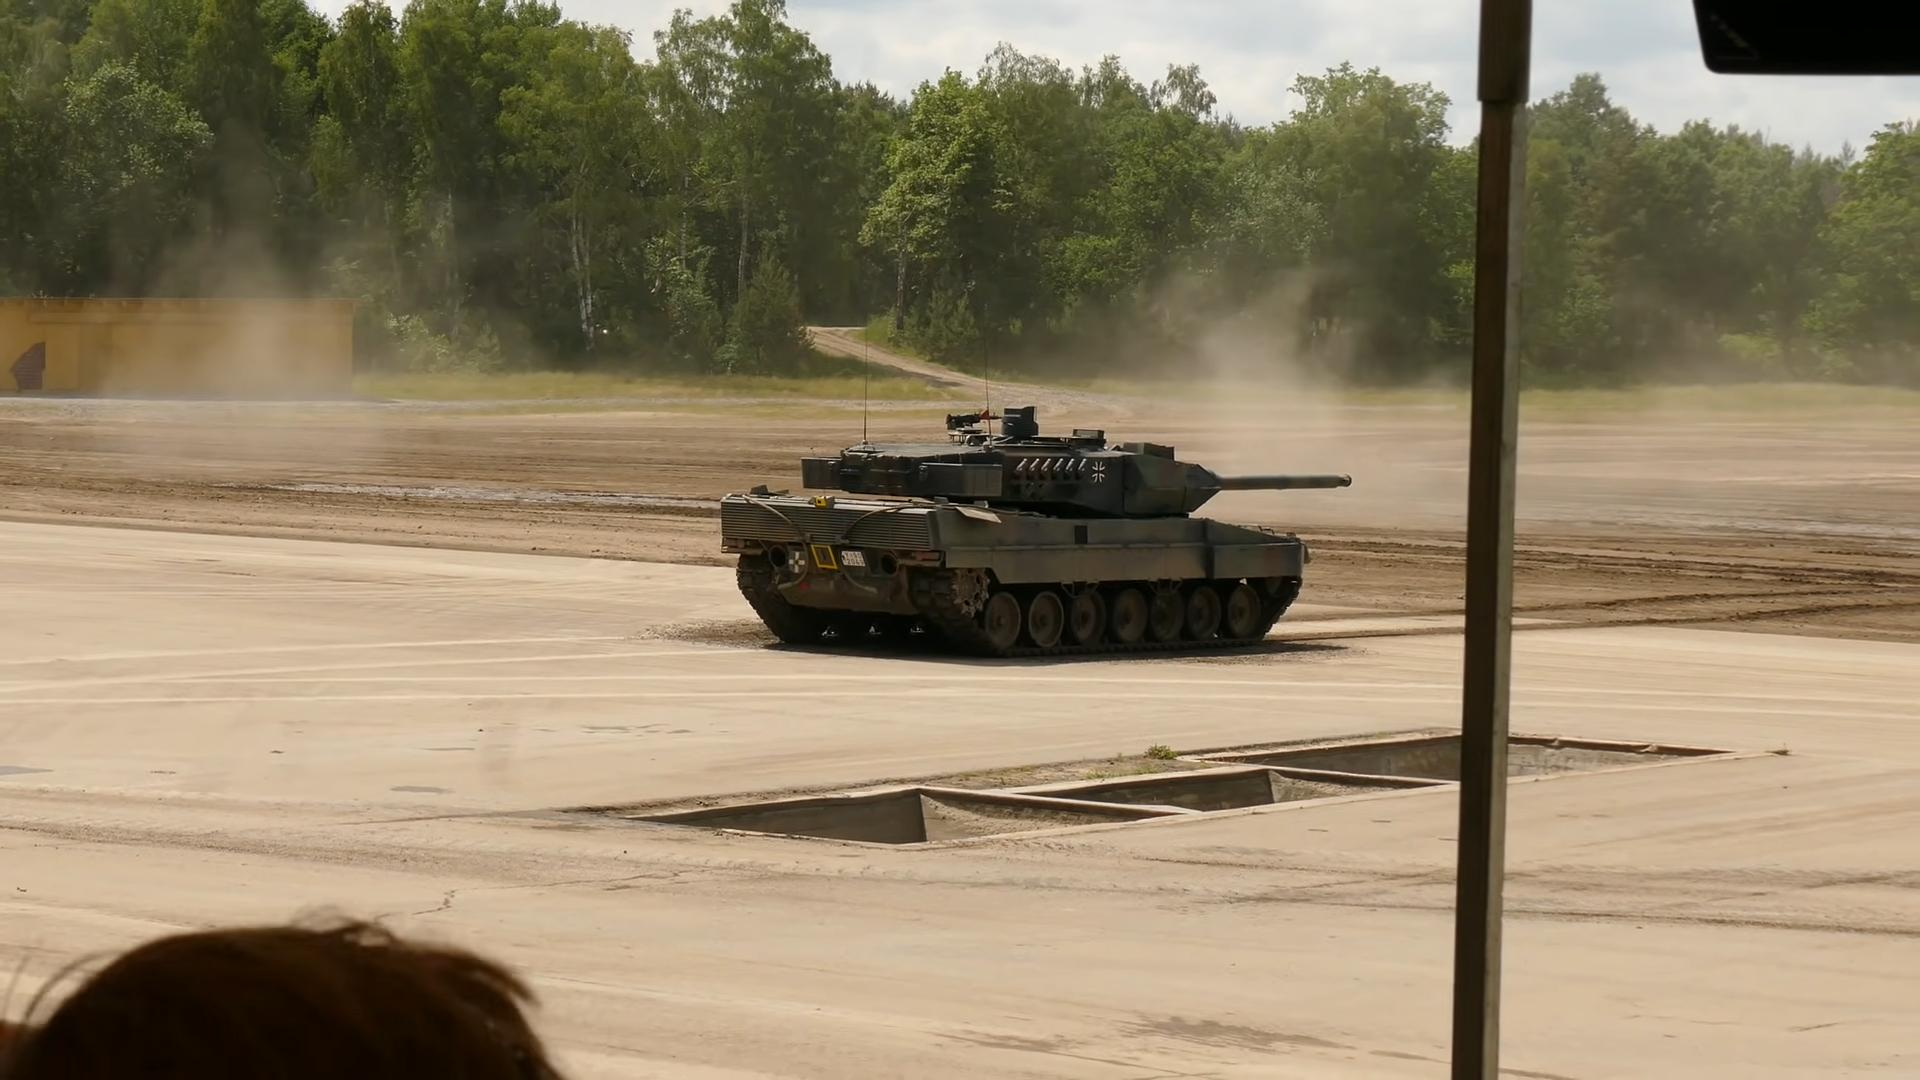tank: (720, 406, 1352, 657)
